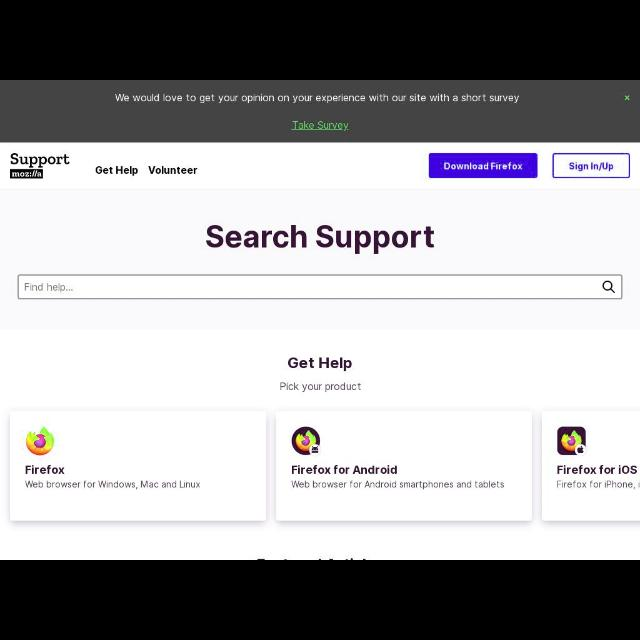button: (622, 92, 632, 102)
icon: (602, 280, 616, 294), (622, 92, 630, 101)
iframe: (1, 82, 640, 144)
image: (291, 424, 323, 458), (555, 425, 587, 457), (22, 426, 56, 456)
input: (16, 274, 624, 300)
panel: (275, 408, 535, 522), (9, 410, 270, 522), (539, 409, 639, 525)
text: (204, 223, 436, 254), (114, 91, 524, 107), (289, 478, 506, 490), (25, 480, 204, 490), (290, 464, 400, 476), (556, 463, 638, 477), (278, 381, 362, 393), (442, 159, 526, 171), (290, 356, 352, 372), (9, 153, 71, 169), (554, 479, 640, 489), (22, 280, 74, 294), (292, 120, 351, 132), (146, 164, 198, 176), (94, 166, 140, 178), (24, 464, 66, 476), (567, 162, 617, 172), (11, 171, 41, 177)
textbutton: (428, 153, 540, 180), (551, 152, 631, 180)
toolbar: (1, 144, 639, 190)
